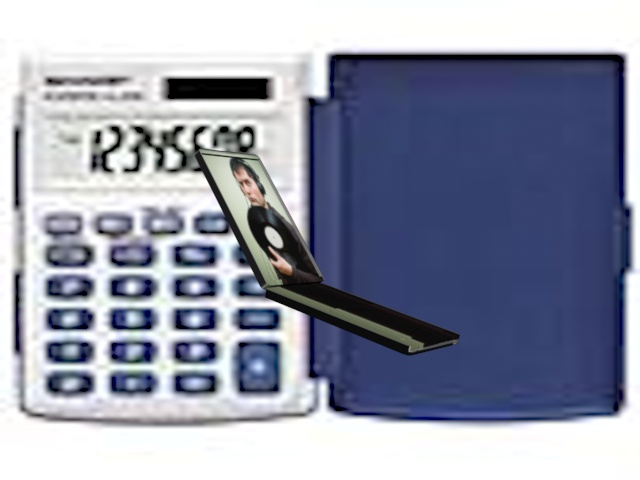mobile_phone: (193, 145, 464, 360)
